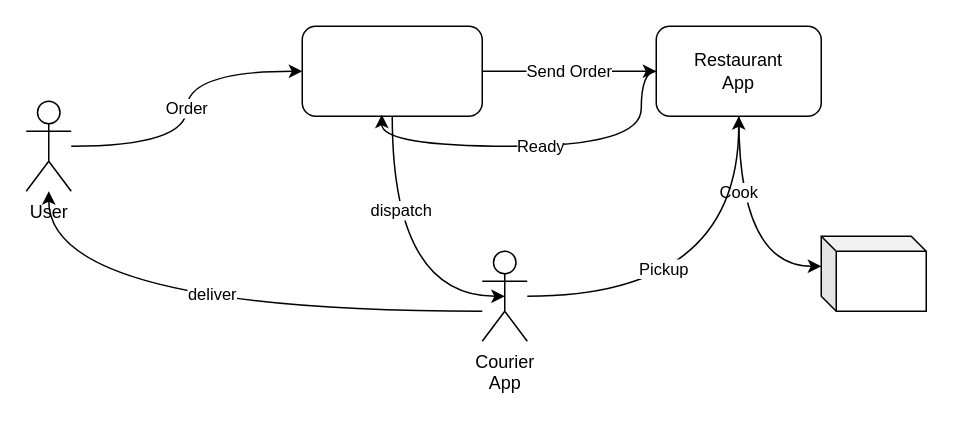
The diagram is 953 pixels wide and 422 high, and some of its shapes have lost their labels. The shapes that lost their labels are listed below. From the top down, each one's box as (x1, y1, x2, y2) in pixels, then its label:
(301, 25, 482, 116): Delivery App
(820, 235, 926, 311): Food
